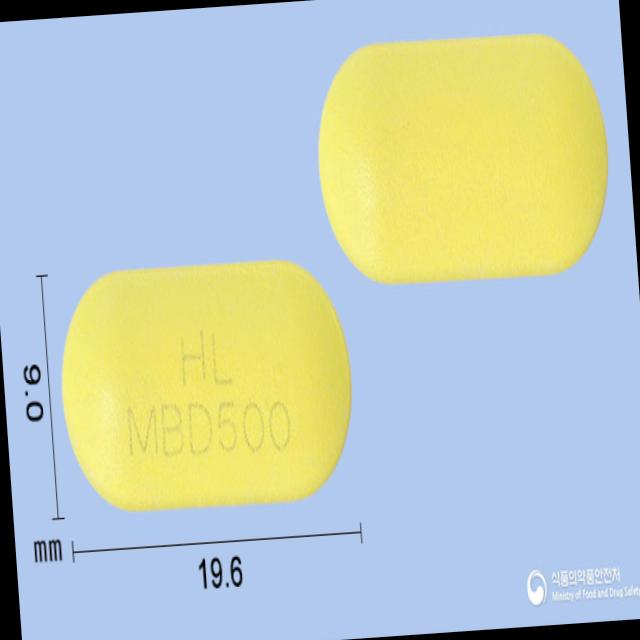Mabid: (54, 252, 360, 515)
